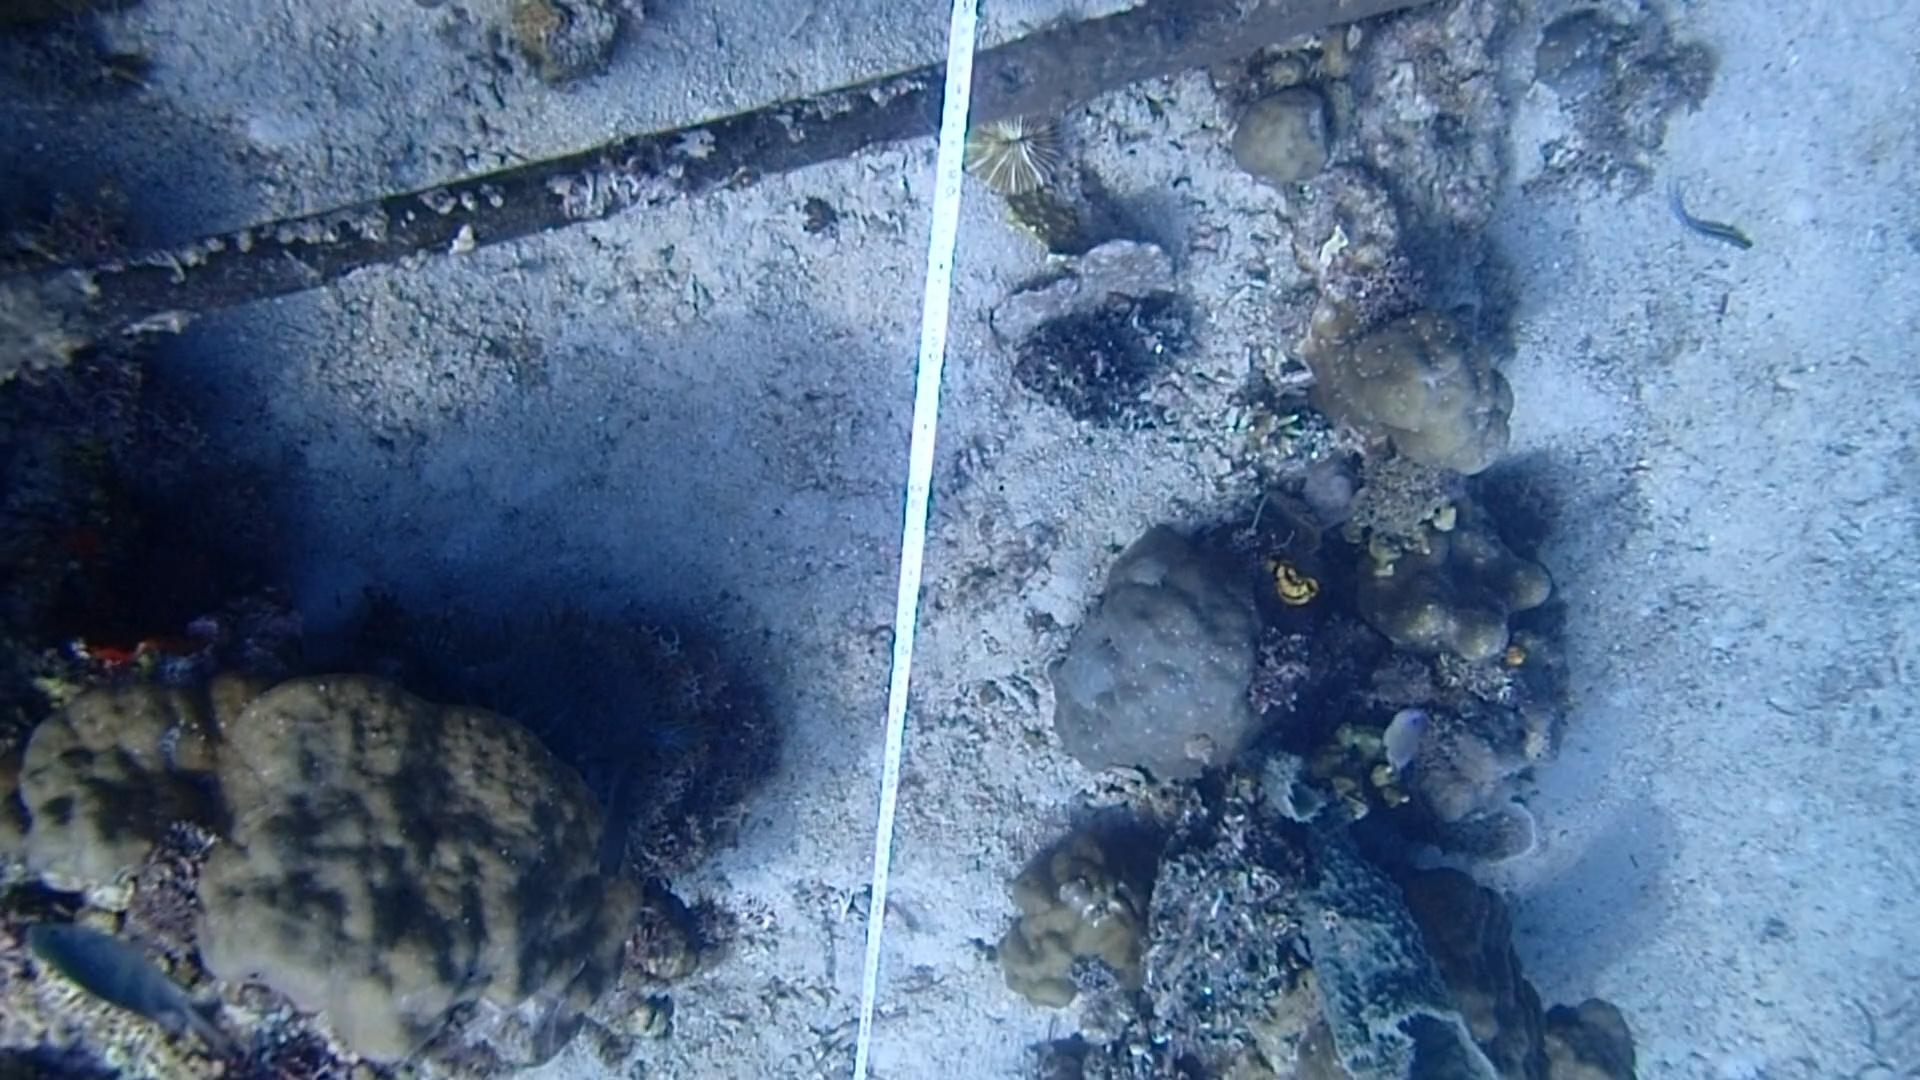Blue Fish: (25, 913, 200, 1035)
Blue Nose Fish: (1369, 696, 1435, 781)
Dark Fish: (585, 765, 651, 880)
Striped Fish: (1650, 166, 1758, 270)
